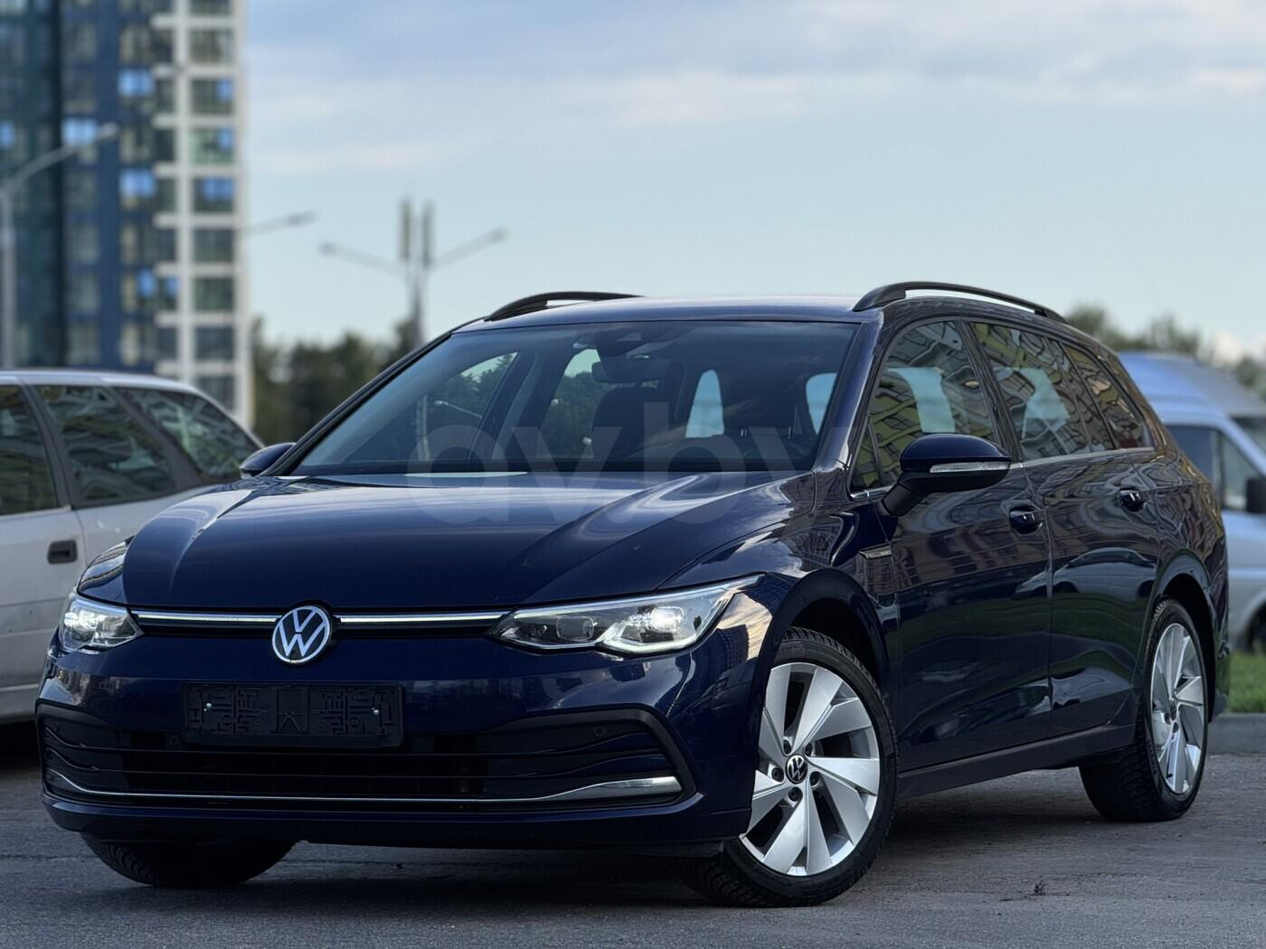Golf_2019: (40, 287, 1232, 904)
